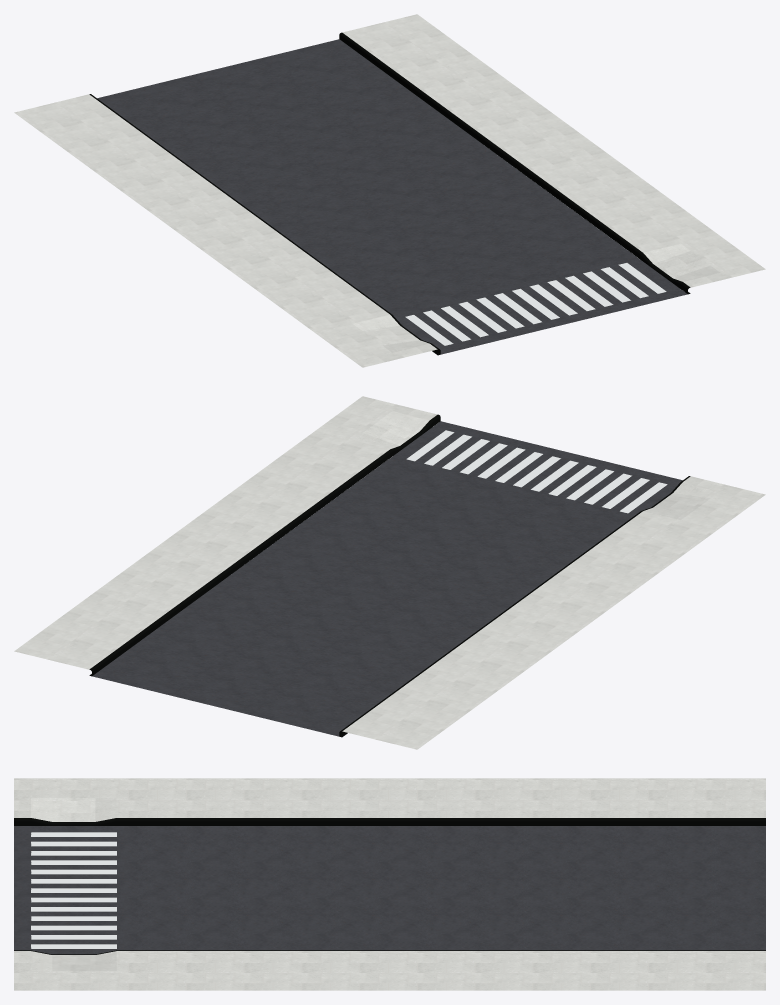
File: esquina 2 carriles 1 estacionamiento.fbx
3 renders of one model, top to bottom at view 1: azimuth 30°, elevation 25°; view 2: azimuth 150°, elevation 25°; view 3: azimuth 270°, elevation 25°, orthographic. The views are drawn at different scales.
Visible parts, largest first — view 1: Callle 1 carril con un lugar para estacionar.010; view 2: Callle 1 carril con un lugar para estacionar.010; view 3: Callle 1 carril con un lugar para estacionar.010.
Part boxes in pixels (<box>): Callle 1 carril con un lugar para estacionar.010: <box>14,14,765,367</box>; Callle 1 carril con un lugar para estacionar.010: <box>14,396,765,749</box>; Callle 1 carril con un lugar para estacionar.010: <box>14,778,765,990</box>.
Bounding box in the file's own units: 1336 × 30.86 × 2000.
4 materials, 4 textured.
